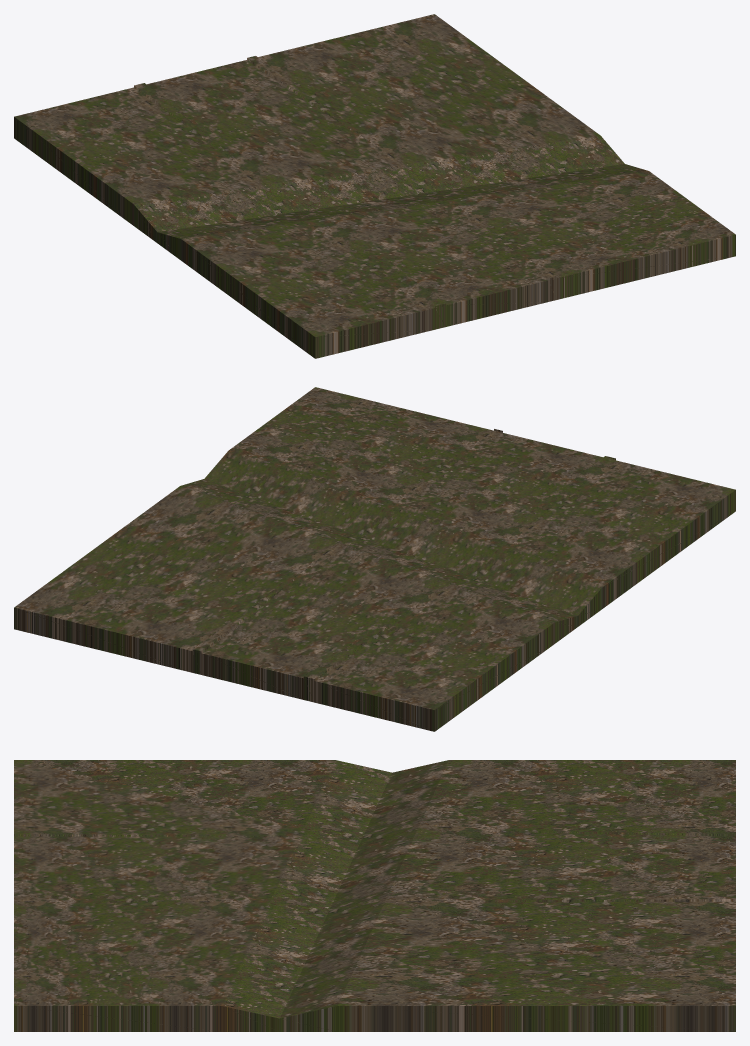
The model's file is terreno.fbx.
3 views of the same model, one above another, from view 1: azimuth 30°, elevation 25°; view 2: azimuth 150°, elevation 25°; view 3: azimuth 270°, elevation 25° (orthographic). The views are drawn at different scales.
Parts seen in each view (by area): view 1: Plano; view 2: Plano; view 3: Plano.
Part boxes in pixels (box(x1,y1,x2,y2)): Plano: box(14, 14, 735, 358); Plano: box(14, 387, 735, 731); Plano: box(14, 760, 735, 1031).
Bounding box in the file's own units: 113 × 6.04 × 140.
